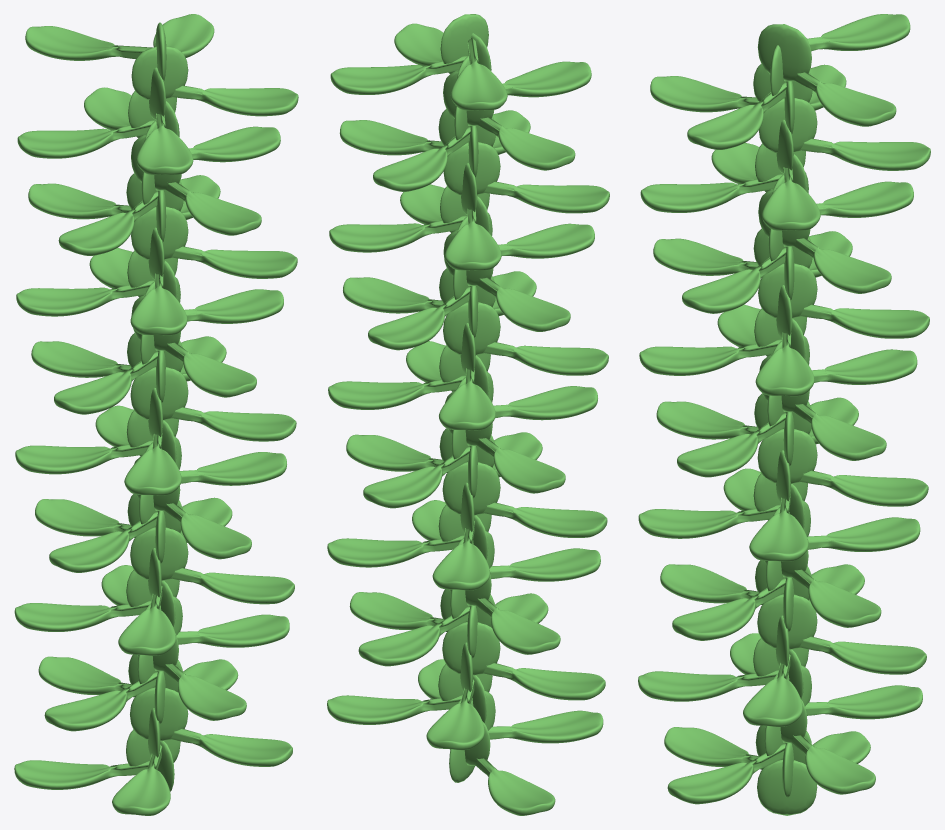
File: Plant3_Large.fbx
3 views of the same model, side by side, from view 1: azimuth 30°, elevation 25°; view 2: azimuth 150°, elevation 25°; view 3: azimuth 270°, elevation 25° (orthographic). The views are drawn at different scales.
Parts seen in each view (by area): view 1: Circle; view 2: Circle; view 3: Circle.
Part boxes in pixels (box(x1,y1,x2,y2)): Circle: box(14, 14, 298, 815); Circle: box(327, 14, 609, 815); Circle: box(638, 14, 930, 815).
Size of the model in its own units: 818 by 2458 by 823.
